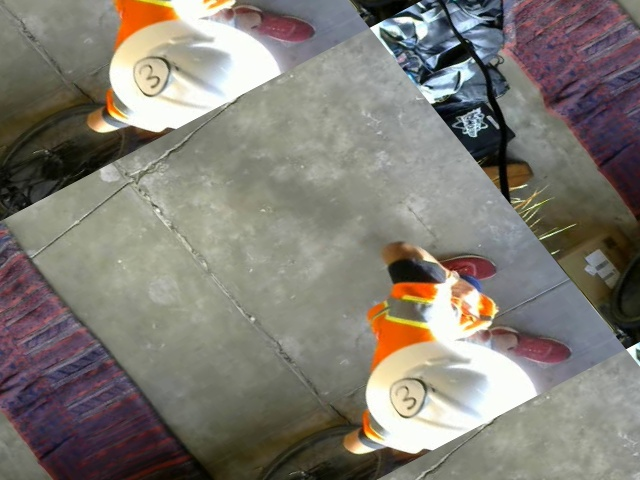three: (376, 370, 439, 422)
